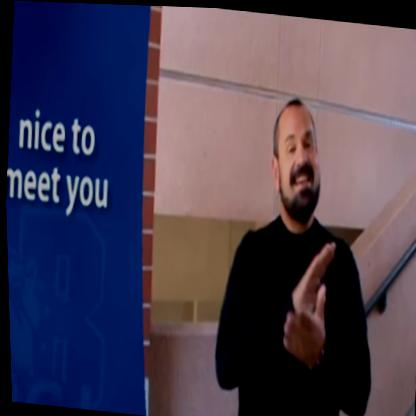NiceToMeetYou: (231, 88, 387, 392)
